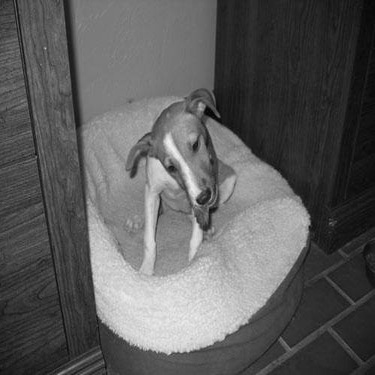dog: (104, 73, 246, 283)
